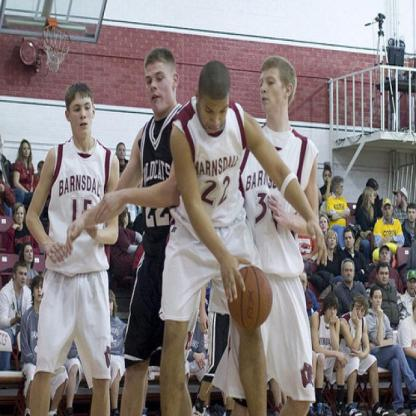basketball: (226, 265, 274, 332)
